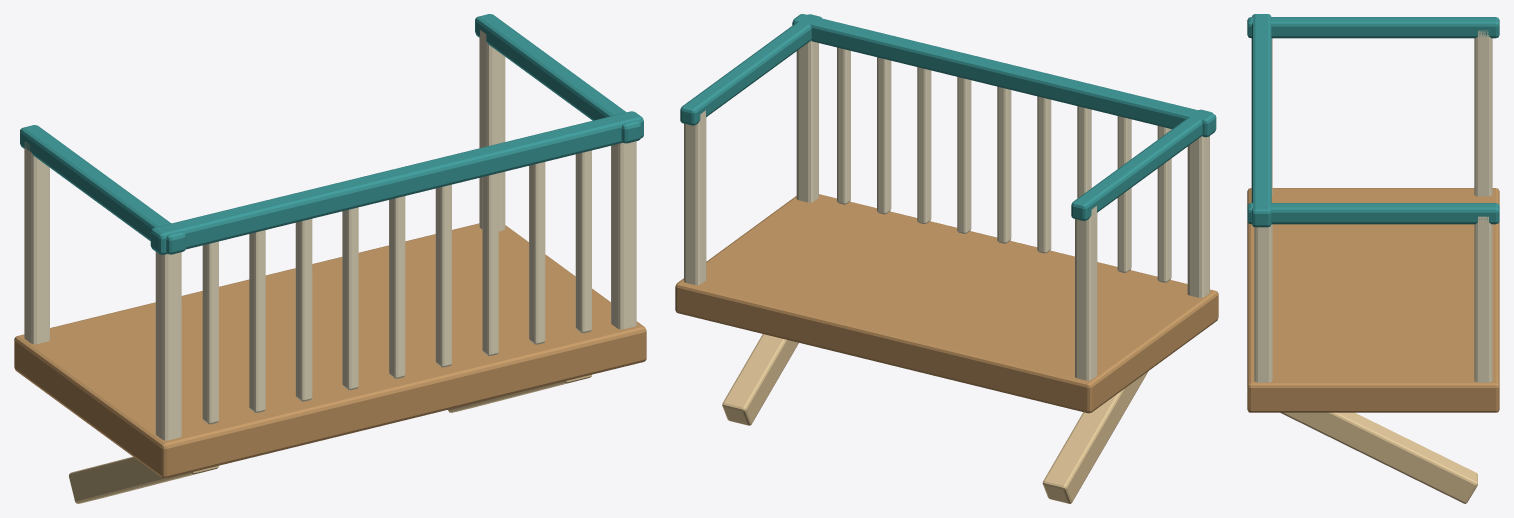
The model's file is S016_balcony_module.glb.
3 views of the same model, side by side, from view 1: azimuth 30°, elevation 25°; view 2: azimuth 150°, elevation 25°; view 3: azimuth 270°, elevation 25° (orthographic). The views are drawn at different scales.
Parts seen in each view (by area): view 1: balcony_floor, front_toprail, balcony_post, side_toprail, balcony_post.001, side_toprail.001, balcony_post.002, balcony_post.003, front_baluster.002, front_baluster.007, front_baluster.001, front_baluster.004 (+6 smaller); view 2: balcony_floor, front_toprail, balcony_support, balcony_post.003, balcony_post.001, side_toprail.001, side_toprail, balcony_post.002, balcony_post, balcony_support.001, front_baluster.004, front_baluster.003 (+7 smaller); view 3: balcony_floor, balcony_support.001, side_toprail, side_toprail.001, front_toprail, balcony_post.003, balcony_post.001, balcony_post.002, balcony_post.
Part boxes in pixels (box(x1,y1,x2,y2)): balcony_floor: box(14, 223, 646, 478); front_toprail: box(150, 111, 643, 254); balcony_post: box(155, 252, 181, 440); side_toprail: box(20, 125, 185, 254); balcony_post.001: box(24, 141, 49, 344); side_toprail.001: box(475, 14, 640, 143); balcony_post.002: box(611, 141, 636, 329); balcony_post.003: box(479, 30, 505, 231); front_baluster.002: box(295, 219, 312, 401); front_baluster.007: box(529, 162, 545, 344); front_baluster.001: box(249, 230, 265, 412); front_baluster.004: box(389, 196, 405, 378); balcony_floor: box(675, 194, 1218, 413); front_toprail: box(792, 14, 1216, 137); balcony_support: box(1042, 371, 1148, 503); balcony_post.003: box(684, 110, 706, 285); balcony_post.001: box(1075, 206, 1097, 380); side_toprail.001: box(680, 14, 822, 125); side_toprail: box(1071, 109, 1213, 220); balcony_post.002: box(796, 40, 818, 202); balcony_post: box(1187, 136, 1209, 297); balcony_support.001: box(722, 334, 798, 425); front_baluster.004: box(997, 86, 1011, 243); front_baluster.003: box(1037, 96, 1051, 253); balcony_floor: box(1247, 188, 1499, 412); balcony_support.001: box(1280, 412, 1477, 503); side_toprail: box(1247, 17, 1499, 38); side_toprail.001: box(1247, 203, 1499, 224); front_toprail: box(1251, 14, 1271, 227); balcony_post.003: box(1474, 216, 1492, 382); balcony_post.001: box(1474, 30, 1492, 196); balcony_post.002: box(1254, 224, 1272, 382); balcony_post: box(1271, 38, 1272, 195).
Size of the model in its own units: 2.6 by 1.9 by 1.4.
